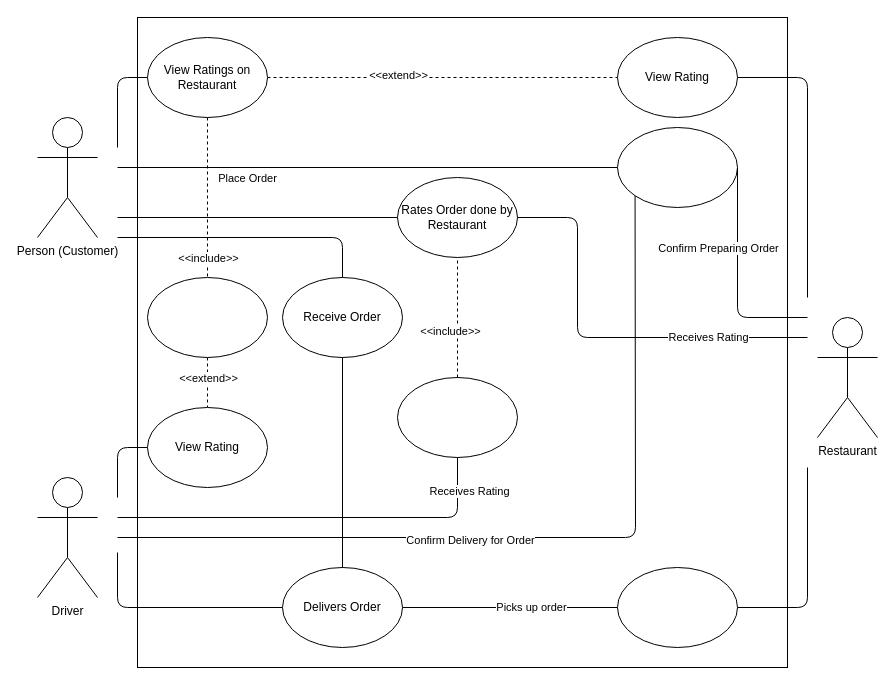
Some shapes in this 895 by 685 pixel diagram are drawn without their labels. The shapes that lost their labels are listed below. From the top down, each one's centre as x and y in pixels, then its label:
point (677, 167): Order Items / Food
point (207, 317): View Ratings on Driver
point (457, 417): Rates Order delivered by Driver
point (677, 607): Cook Food / Make Items
